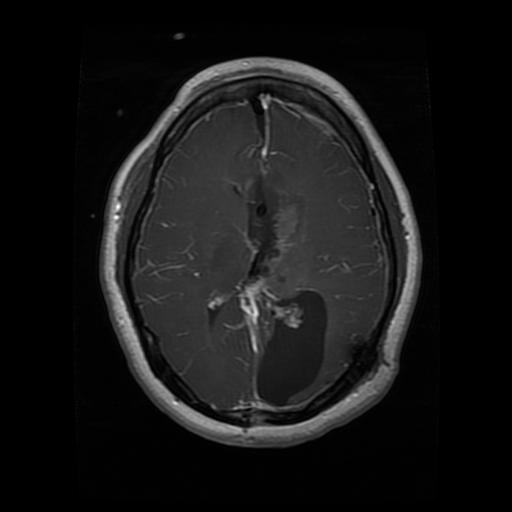Gliomia_tumour: (235, 172, 332, 407)
